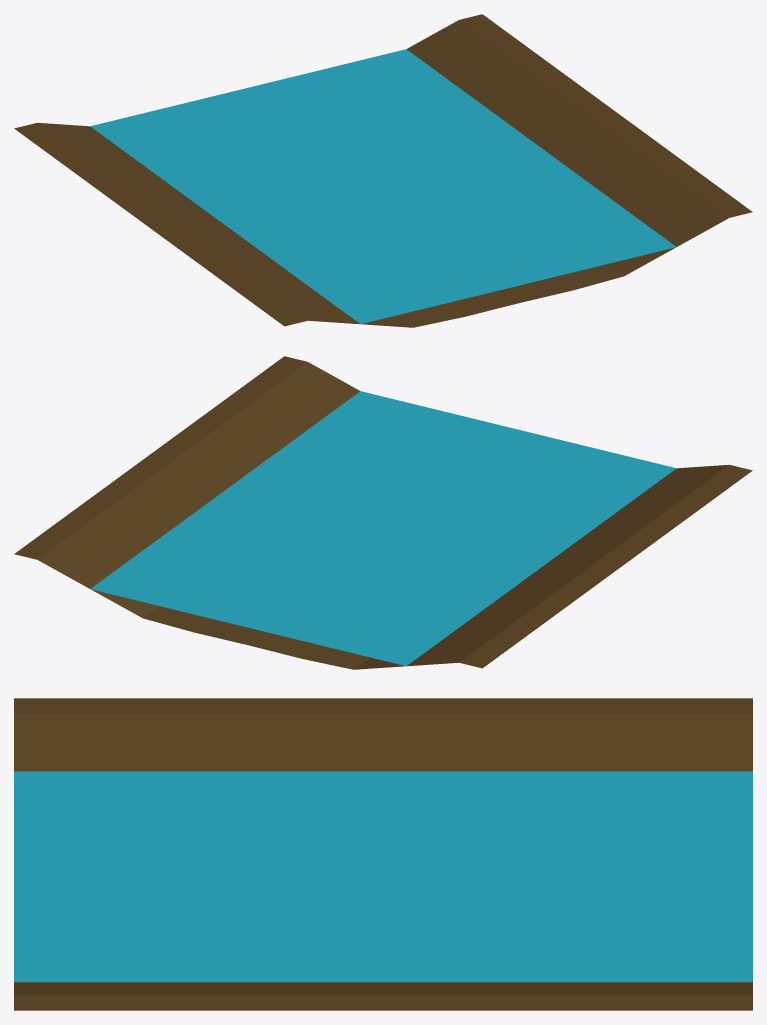
File: Riverbank Straight.fbx
The picture shows the model from 3 angles, top to bottom: view 1: azimuth 30°, elevation 25°; view 2: azimuth 150°, elevation 25°; view 3: azimuth 270°, elevation 25°; orthographic projection. The views are drawn at different scales.
Parts seen in each view (by area): view 1: RB Straight Water, Riverbank Straight; view 2: RB Straight Water, Riverbank Straight; view 3: RB Straight Water, Riverbank Straight.
Boxes of the visible parts, x1,y1,x2,y2 form: RB Straight Water: (90,49,676,324); Riverbank Straight: (14,14,752,327); RB Straight Water: (90,391,676,666); Riverbank Straight: (14,356,752,669); RB Straight Water: (14,771,752,982); Riverbank Straight: (14,698,752,1010).
Size of the model in its own units: 2000 by 140 by 2000.
